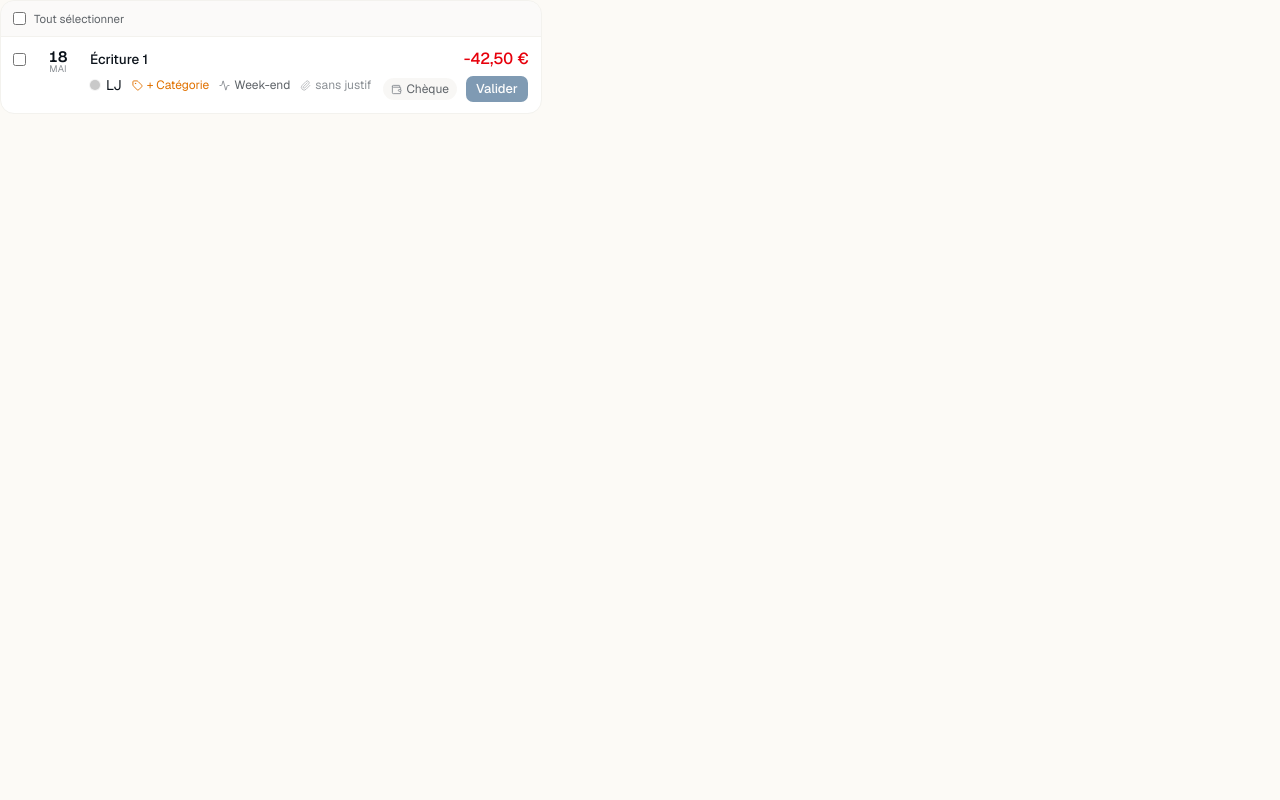
Scenario: EcrituresTable — bandeau replié 2 lignes › (a bis) la catégorie inline (accès rapide) est un combobox recherchable, pas un select à plat
Click the dropdown. click: click(170, 85)
box: top-left (128, 76), bottom-right (213, 94)
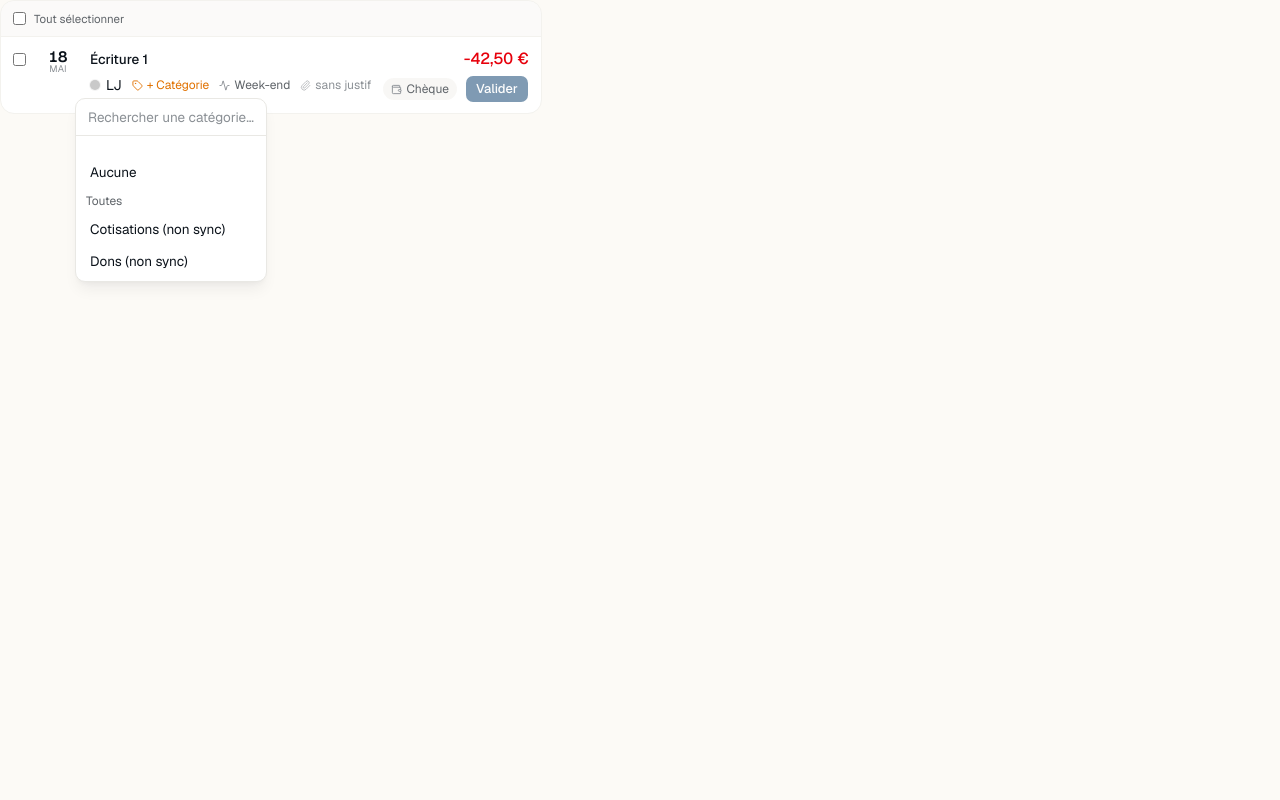
Now the dropdown with placeholder "Rechercher une catégorie…" is shown, box top-left (76, 99), bottom-right (266, 136)
Now the option "Dons (non sync)" is shown, box top-left (90, 252), bottom-right (188, 270)
